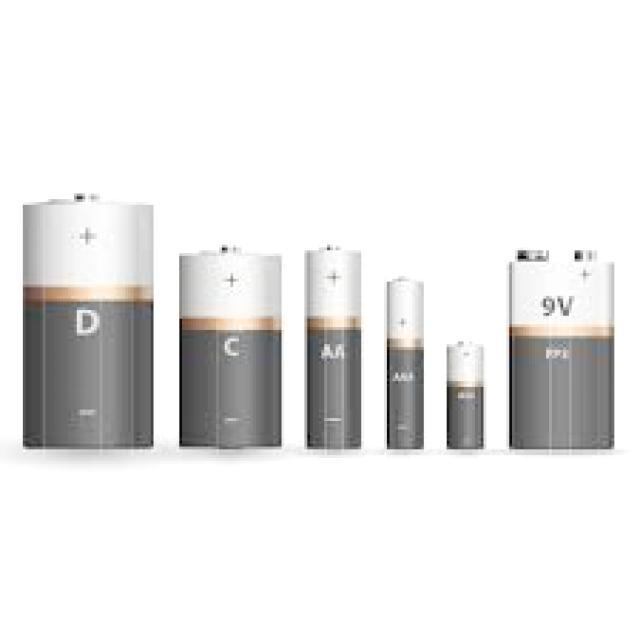battery: (24, 191, 155, 450), (178, 245, 283, 450), (508, 250, 615, 450), (306, 245, 362, 450), (386, 275, 424, 449), (446, 341, 486, 449)
